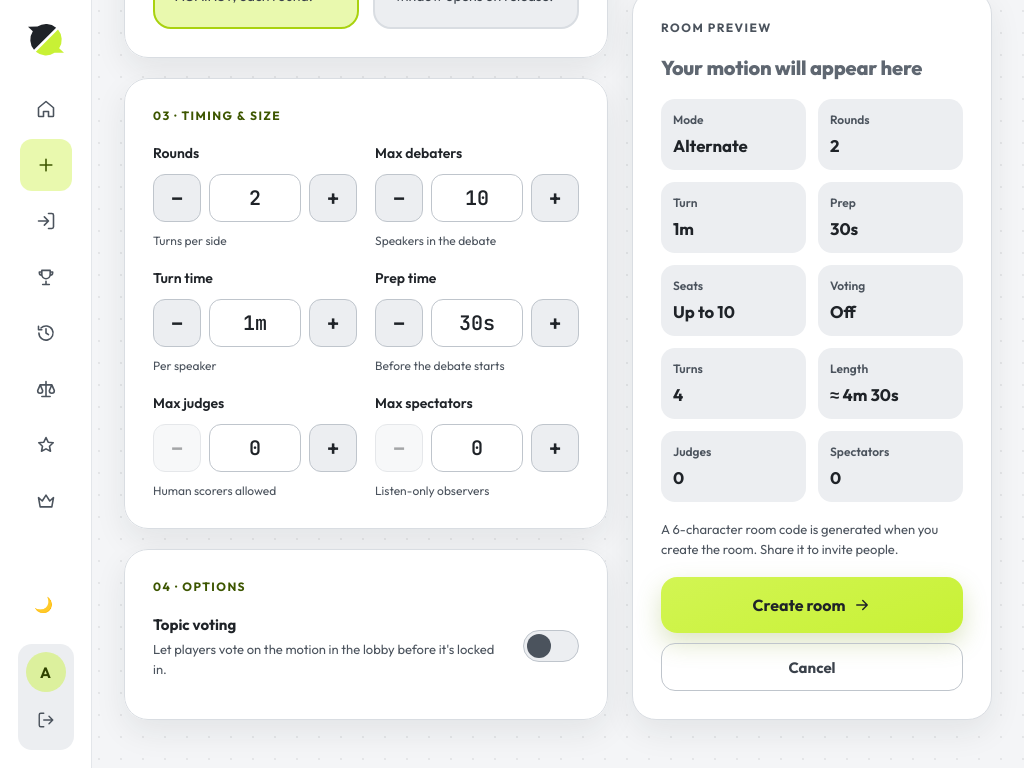
Test case: CreateRoom › form validation › shows error when votingEnabled but no topics added
(page scrolled)
Toggle voting on
Click the switch named "Topic voting".
click(551, 646)  # box [523,630,579,662]
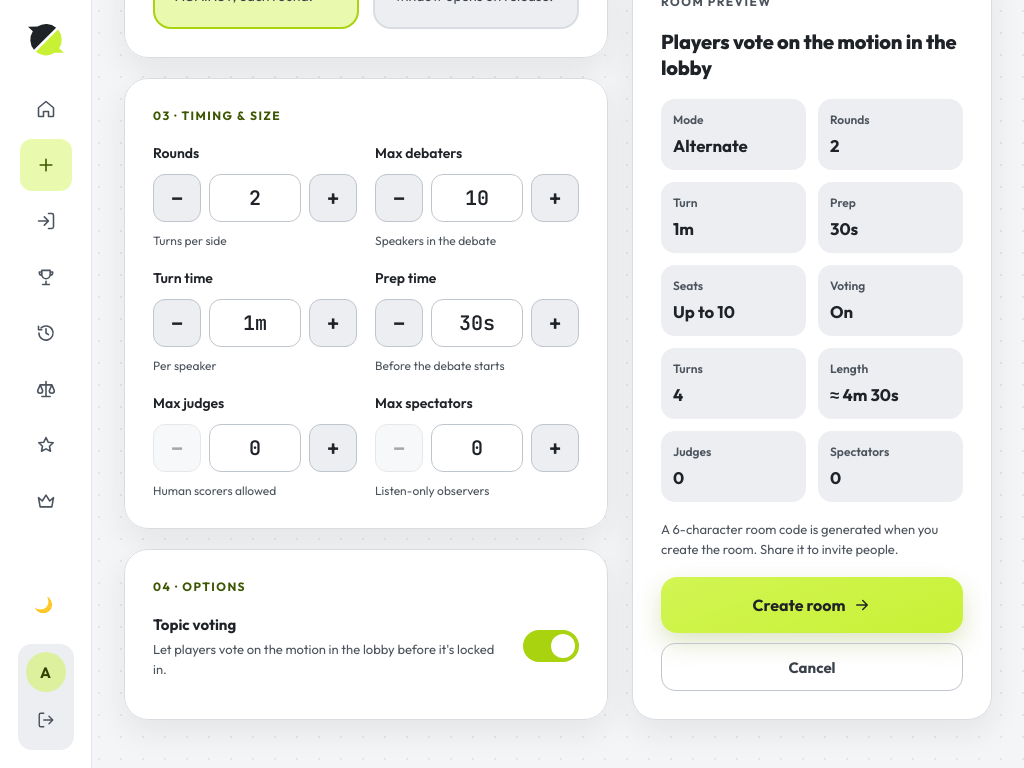
Click the button "Create room".
click(812, 605)  # box [661,577,963,633]
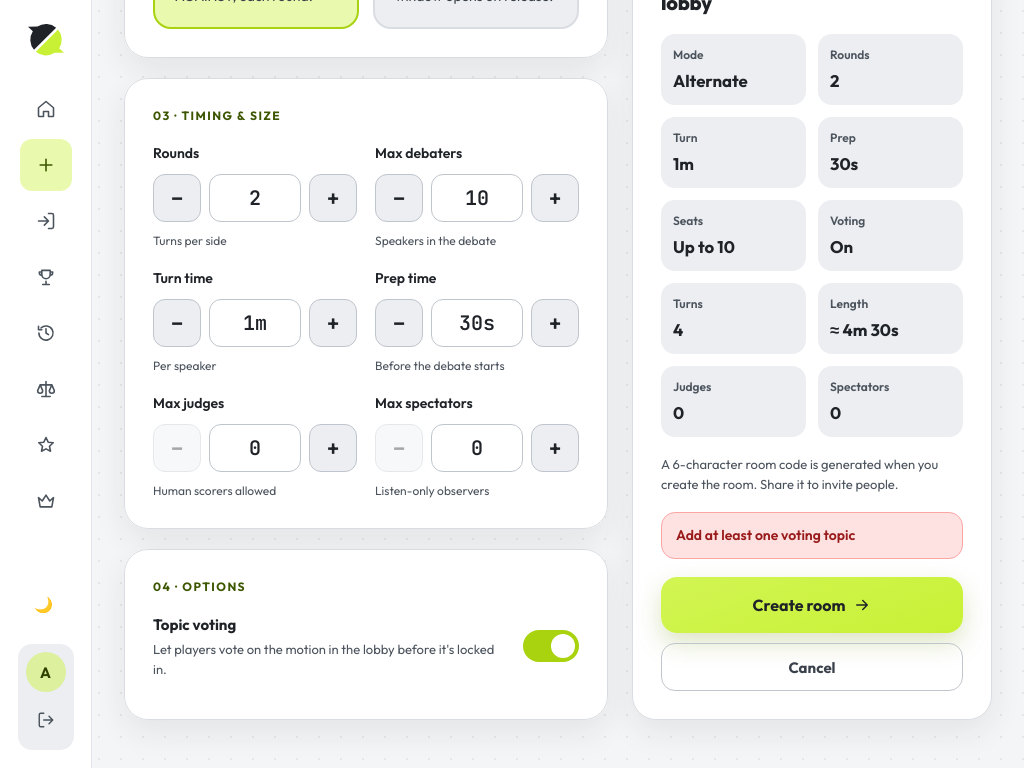
Now the text "Add at least one voting topic" is shown, box [661,512,963,559]
